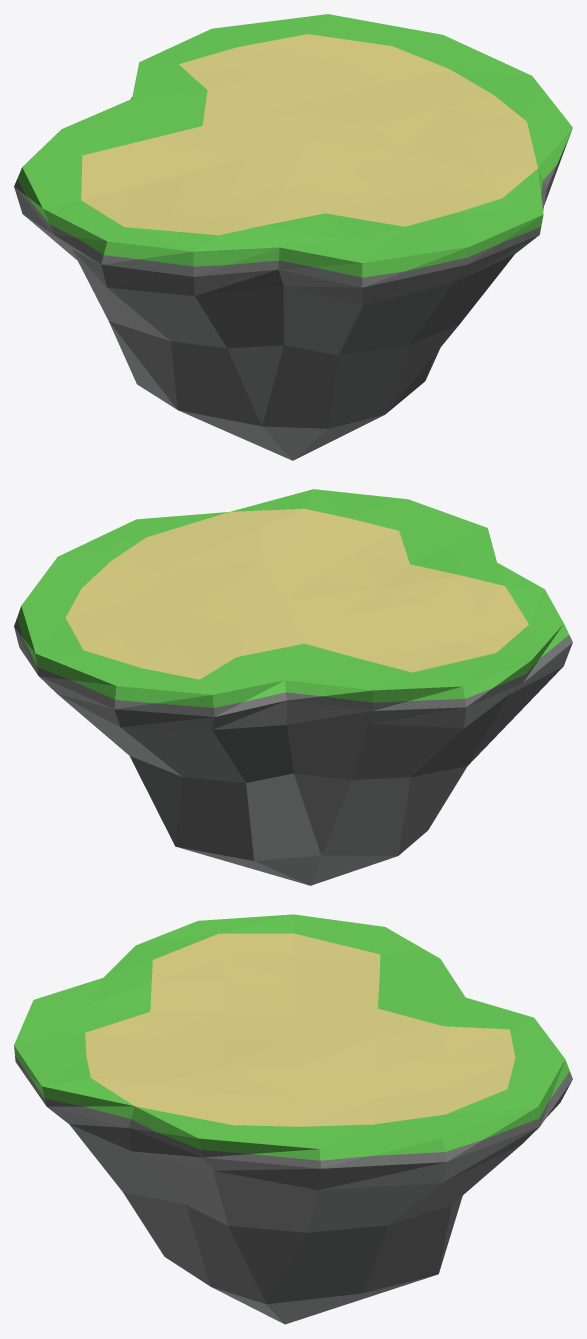
Rendered from um_ground002.FBX.
3 views of the same model, one above another, from view 1: azimuth 30°, elevation 25°; view 2: azimuth 150°, elevation 25°; view 3: azimuth 270°, elevation 25° (orthographic). The views are drawn at different scales.
Parts seen in each view (by area): view 1: um_ground002; view 2: um_ground002; view 3: um_ground002.
Part boxes in pixels (box(x1,y1,x2,y2)): um_ground002: box(14, 14, 572, 460); um_ground002: box(14, 489, 572, 885); um_ground002: box(14, 914, 572, 1324).
Size of the model in its own units: 9.88 by 5.75 by 9.79.
